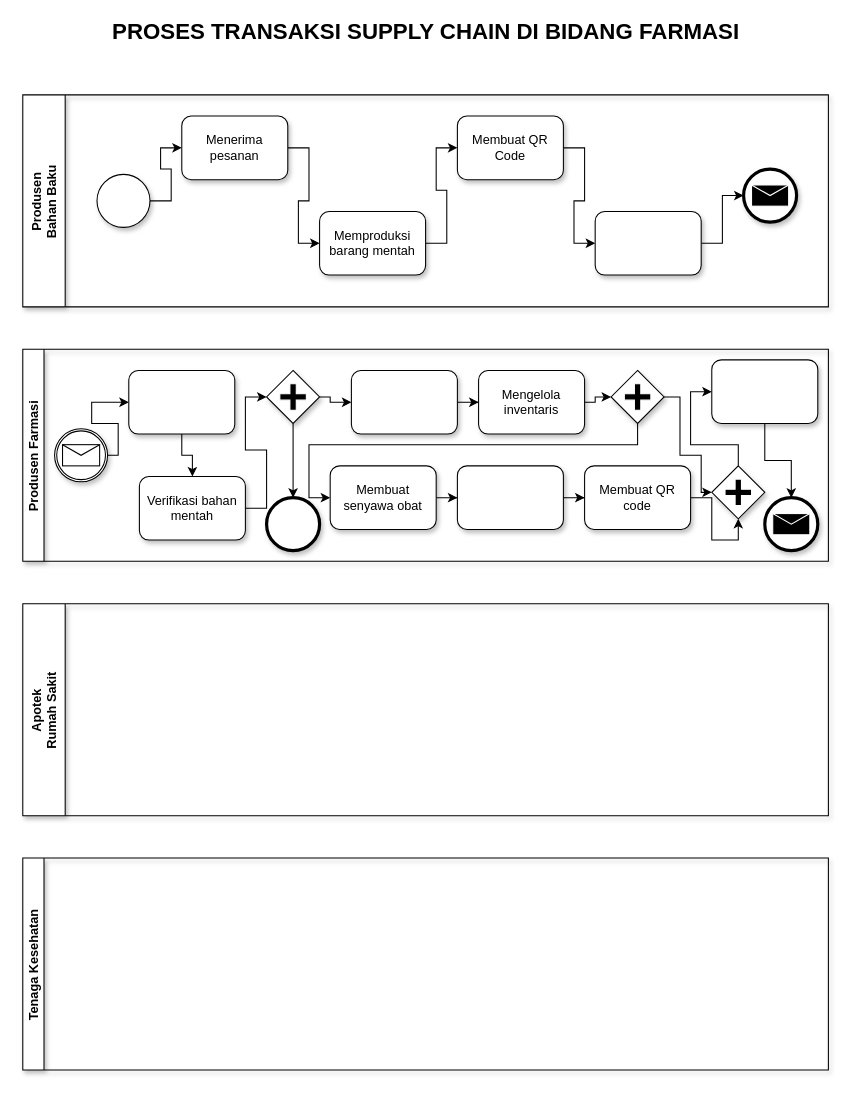
Image size: 853x1096. Some labels were removed from this diagram. The centre of each missing label's shape, as x and y in pixels:
"Mengemas produk farmasi" goes at pixel 511 499.
"Menyimpan catatan informasi" goes at pixel 765 393.
"Menyimpan produk farmasi" goes at pixel 405 403.
"Scan QR code" goes at pixel 182 403.
"Simpan catatan informasi" goes at pixel 649 244.
"Start" goes at pixel 124 202.
